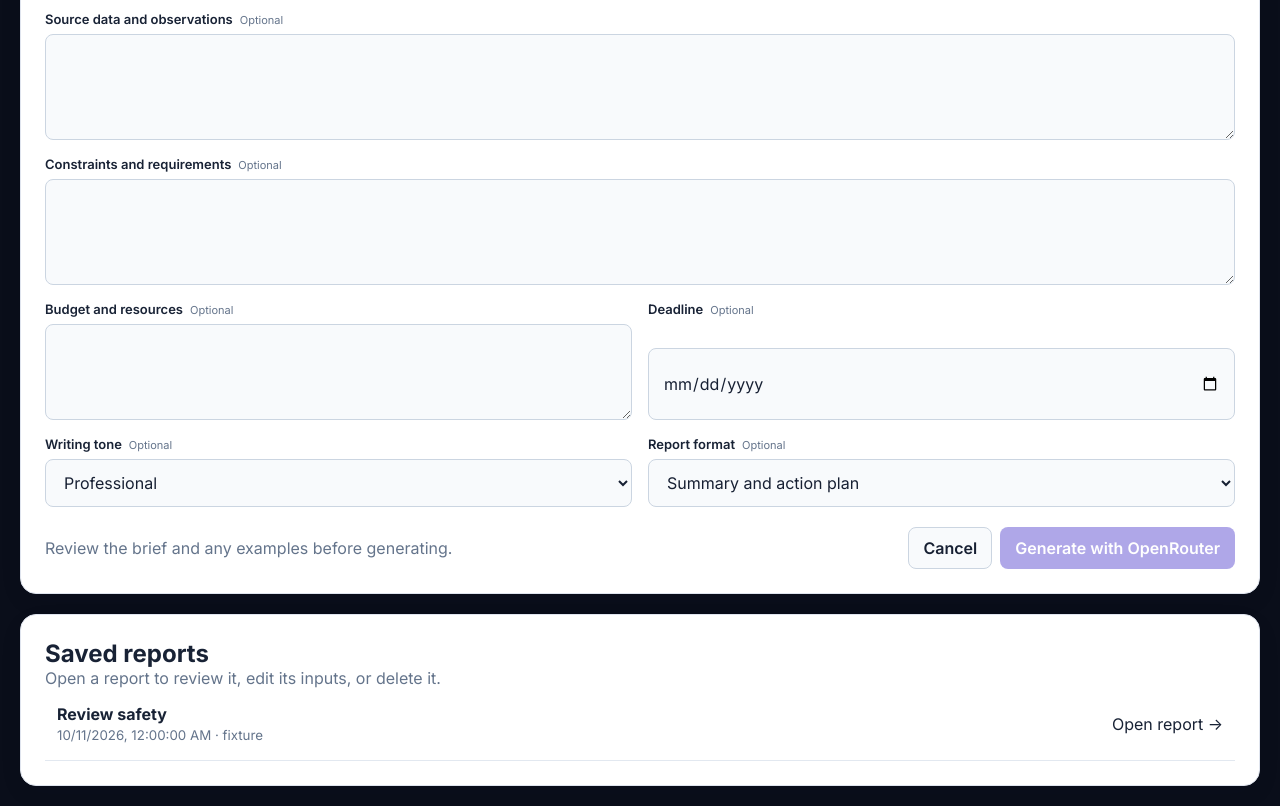
it: saved history opens a structured report detail without invoking generation
(page scrolled)
Click the button "Review safety10/11/2026, 12:00:00 AM · fixture Open report →": (112, 714) x1=45 y1=688 x2=1235 y2=761
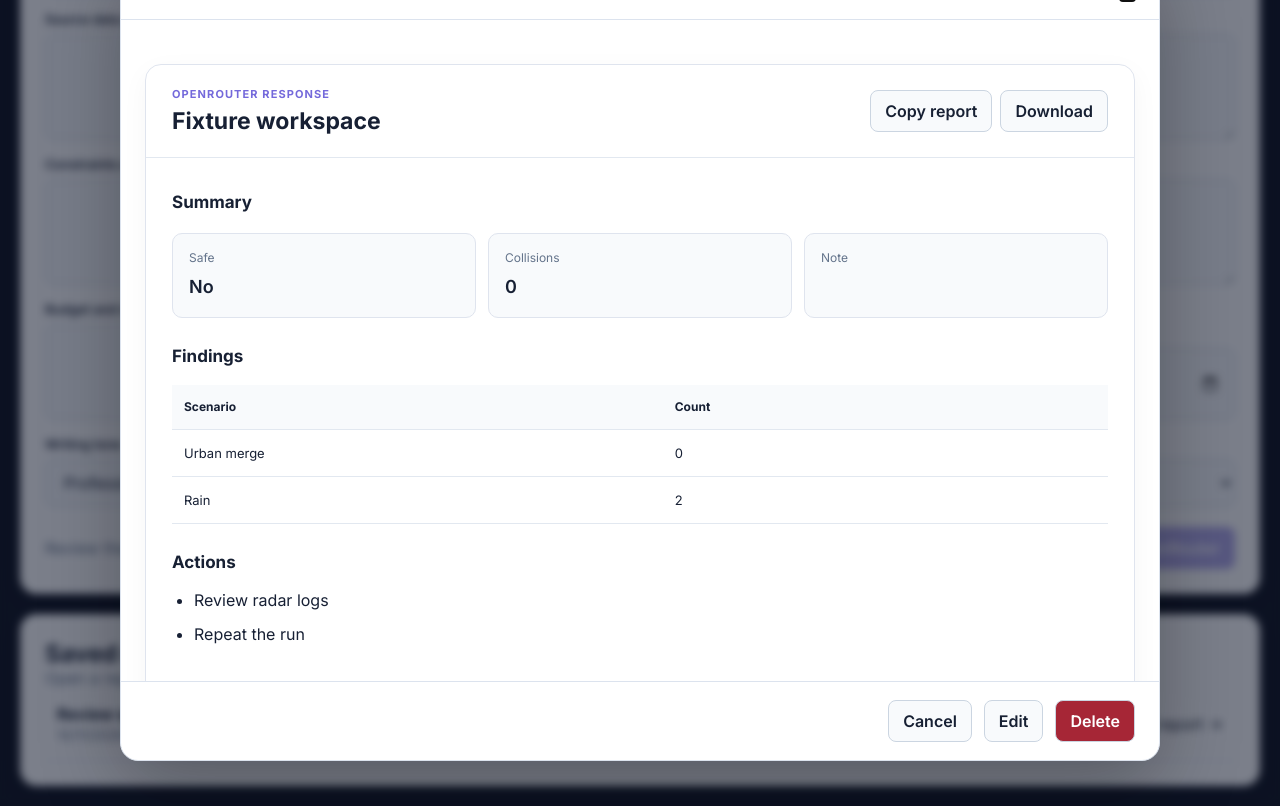
Expected: the heading "Summary" is shown, x1=172 y1=192 x2=252 y2=212
Expected: the text "No" is shown, x1=189 y1=276 x2=214 y2=297
Expected: the table is shown, x1=172 y1=385 x2=1108 y2=524
